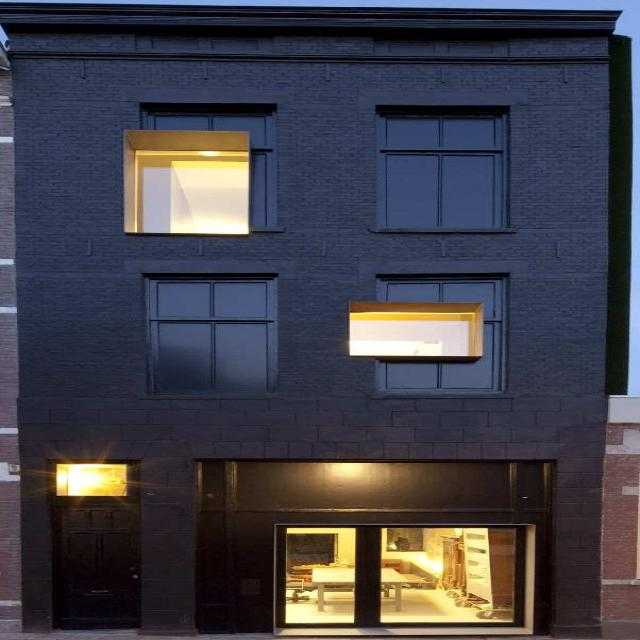door: (283, 529, 529, 622)
wall: (0, 3, 622, 634)
windows: (136, 136, 256, 233), (353, 312, 481, 356), (58, 464, 130, 497)
